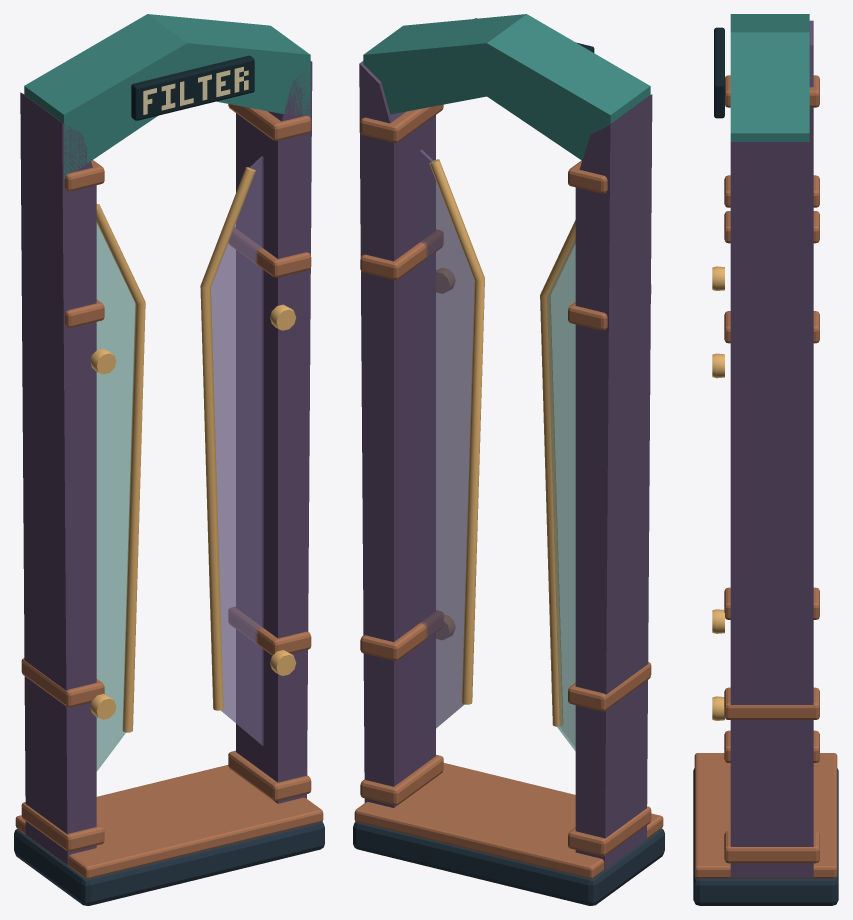
The picture shows the model from 3 angles, left to right: view 1: azimuth 30°, elevation 25°; view 2: azimuth 150°, elevation 25°; view 3: azimuth 270°, elevation 25°; orthographic projection.
Parts seen in each view (by area): view 1: PR058 enamel and hardware; view 2: PR058 enamel and hardware; view 3: PR058 enamel and hardware.
Part boxes in pixels (x1,y1,x2,y2): PR058 enamel and hardware: (14,14,324,905); PR058 enamel and hardware: (353,14,664,905); PR058 enamel and hardware: (693,14,838,905).
Size of the model in its own units: 0.6995 by 2.2 by 0.3548.
